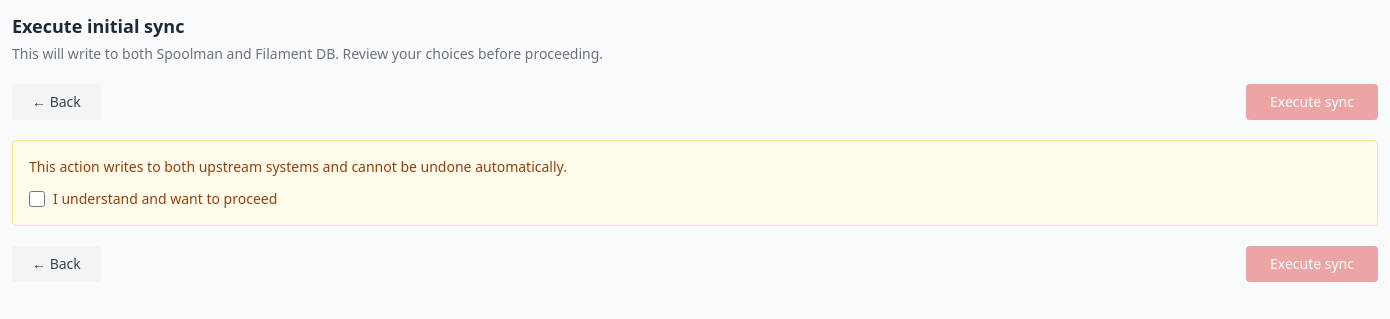
Step6Execute — result view › shows summary counters after execute
Click the checkbox at (37, 199), box left=29, top=191, right=45, bottom=207
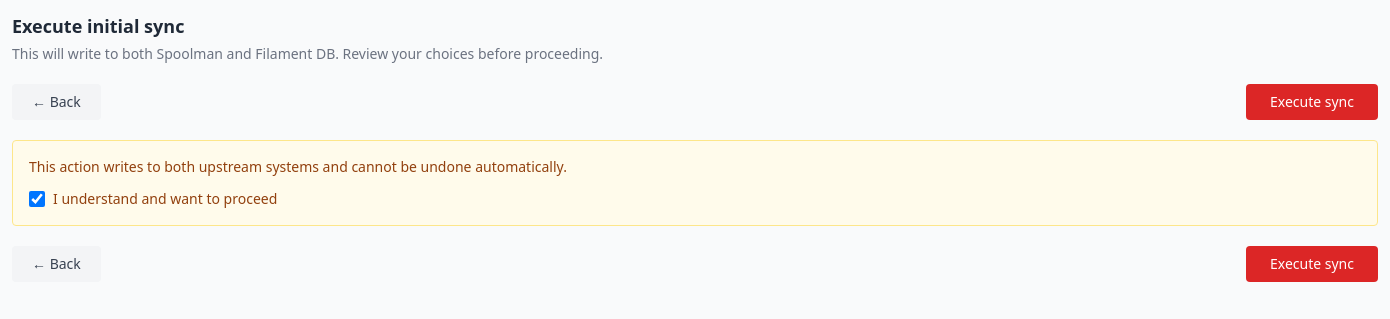
Click the 1st button "Execute sync" at (1312, 102), box left=1246, top=84, right=1378, bottom=120
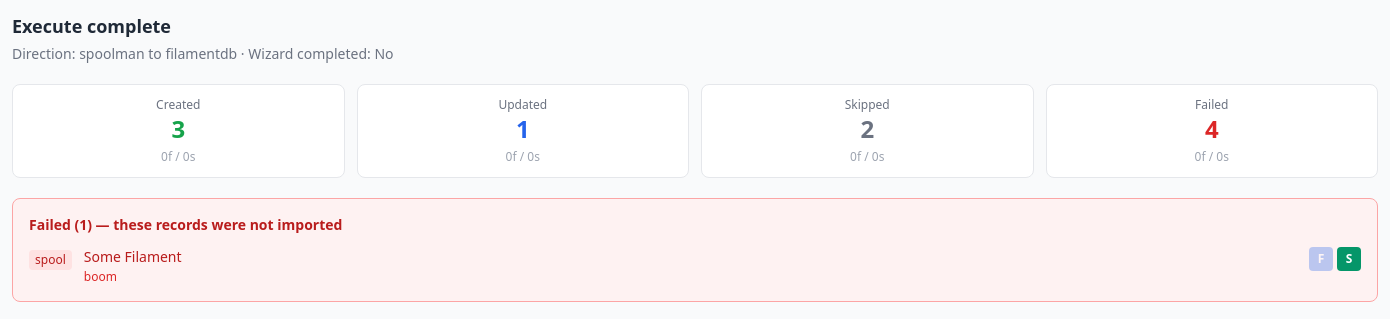
Check: the text "3" is shown, box left=171, top=112, right=185, bottom=145
Check: the text "1" is shown, box left=516, top=112, right=530, bottom=145
Check: the text "2" is shown, box left=860, top=112, right=874, bottom=145
